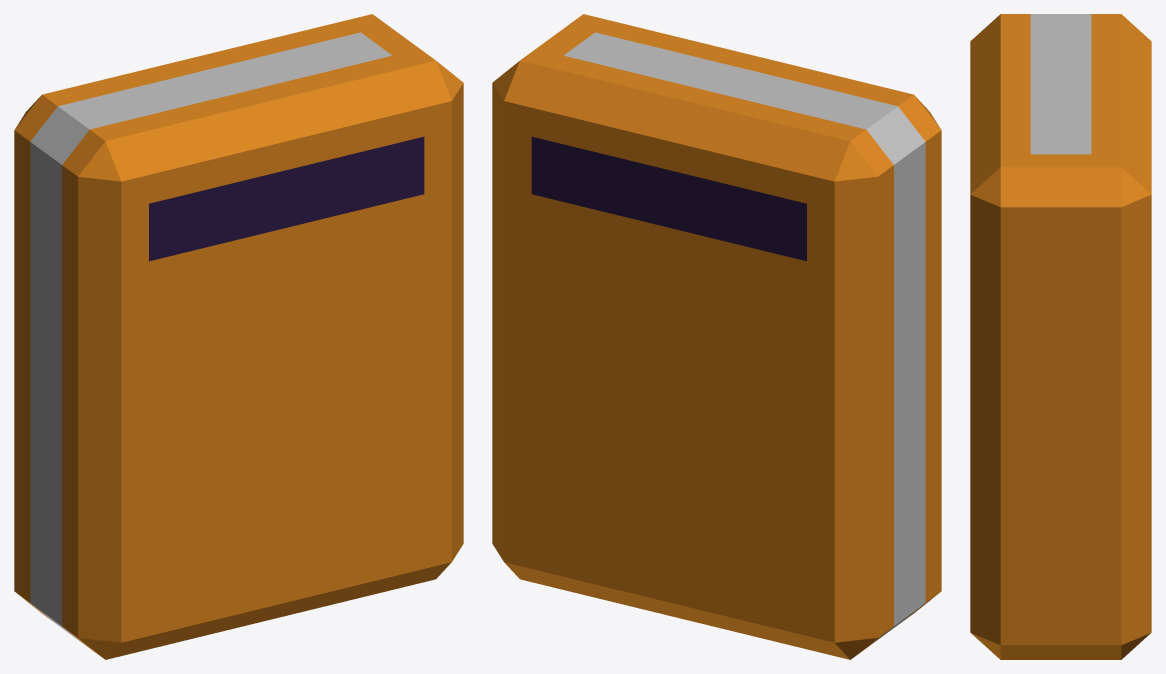
File: Book6.fbx
3 renders of one model, left to right at view 1: azimuth 30°, elevation 25°; view 2: azimuth 150°, elevation 25°; view 3: azimuth 270°, elevation 25°, orthographic. The views are drawn at different scales.
Visible parts, largest first — view 1: Book6; view 2: Book6; view 3: Book6.
Boxes of the visible parts, box(x1,y1,x2,y2) form: Book6: box(14, 14, 463, 659); Book6: box(492, 14, 941, 659); Book6: box(970, 14, 1151, 659).
Bounding box in the file's own units: 70 × 90 × 30.
